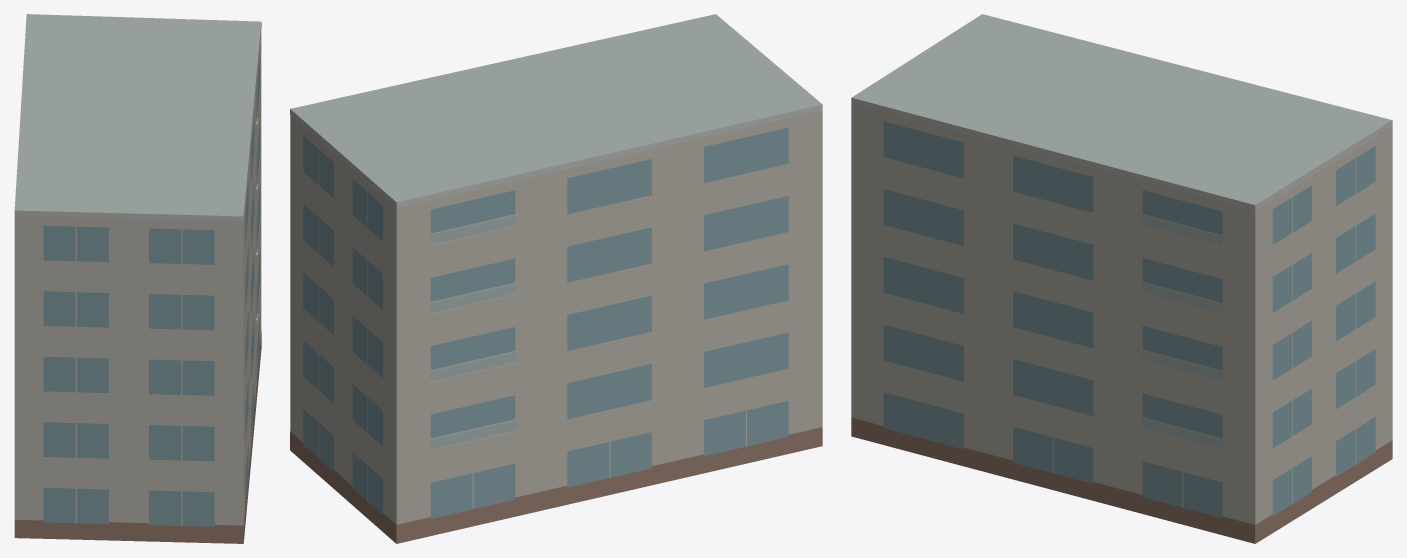
Rendered from survey-upis-32906451.glb.
3 views of the same model, side by side, from view 1: azimuth 30°, elevation 25°; view 2: azimuth 150°, elevation 25°; view 3: azimuth 270°, elevation 25° (orthographic). The views are drawn at different scales.
Parts seen in each view (by area): view 1: survey-upis-32906451.tmp; view 2: survey-upis-32906451.tmp; view 3: survey-upis-32906451.tmp.
Part boxes in pixels (left/top/right/bottom): survey-upis-32906451.tmp: left=14, top=14, right=261, bottom=543; survey-upis-32906451.tmp: left=290, top=14, right=822, bottom=543; survey-upis-32906451.tmp: left=851, top=14, right=1392, bottom=543.
Size of the model in its own units: 17.31 by 14.3 by 20.71.
